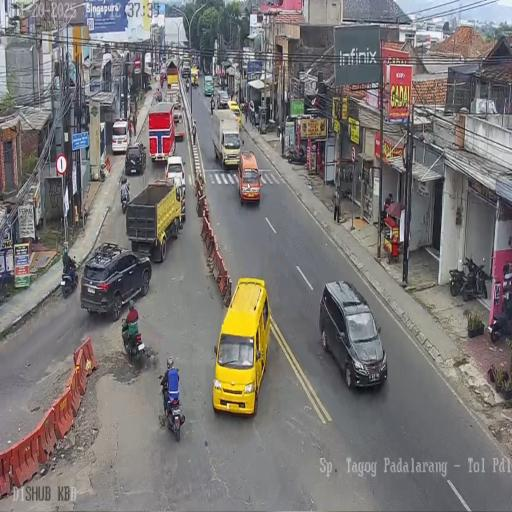3: (126, 177, 184, 263), (148, 102, 176, 164), (166, 59, 180, 91), (181, 58, 191, 80), (144, 52, 152, 76)
car: (212, 277, 271, 415), (319, 279, 386, 390), (79, 245, 151, 318), (237, 150, 261, 203), (221, 127, 241, 169), (125, 142, 146, 175), (165, 154, 185, 188), (112, 119, 130, 154), (227, 100, 241, 130), (217, 89, 229, 108), (190, 65, 199, 87), (172, 102, 181, 124), (204, 76, 213, 96), (212, 74, 219, 88)
truck: (160, 370, 185, 442), (489, 283, 512, 343), (461, 252, 484, 302), (122, 317, 144, 362), (62, 260, 80, 298), (448, 266, 466, 296), (286, 144, 306, 165), (120, 178, 130, 214), (251, 109, 260, 129), (276, 122, 282, 138), (210, 97, 215, 115), (156, 88, 162, 102), (185, 79, 190, 92), (160, 74, 164, 88)
